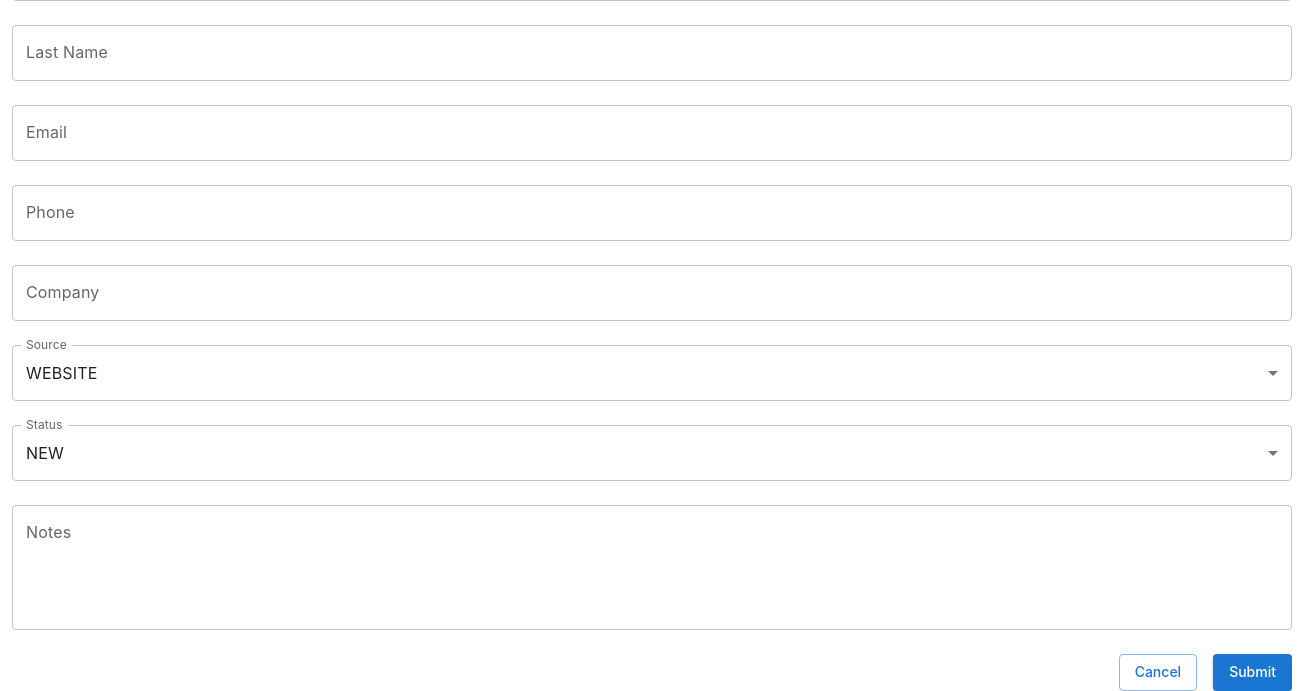
Scenario: LeadForm › validates required fields
(page scrolled)
// Try to submit empty form
Step 1. Click the button "Submit" → [1253, 672], box [1213, 654, 1292, 690]
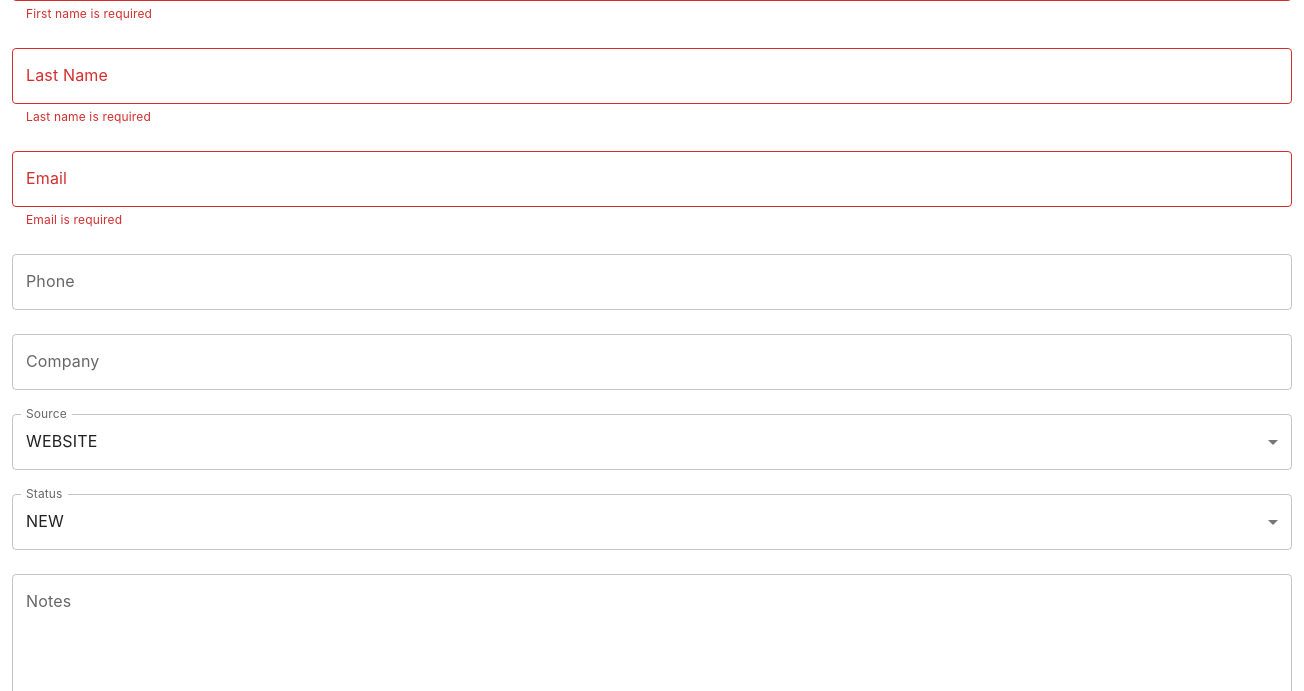
Result: the text "First name is required" is shown at [26, 6, 152, 21]
Result: the text "Last name is required" is shown at [26, 109, 151, 124]
Result: the text "Email is required" is shown at [26, 212, 122, 227]
